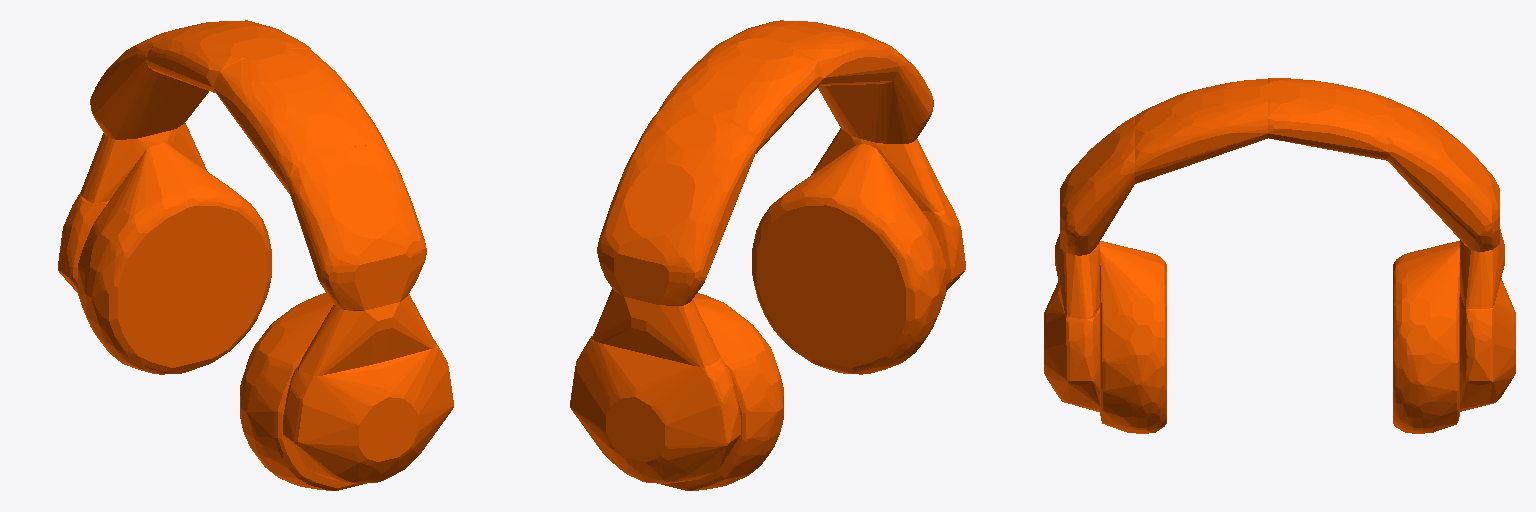
URDF robot description (Headphones):
<?xml version="1.0" ?>
<robot name="Headphones">
   <material name="obj_color">
      <color rgba="1.0 0.423529411765 0.0392156862745 1.0"/>
   </material>
   <link name="top">
      <inertial>
         <origin rpy="0.0003874533587058249 0.0008905078867870997 0.001185845480122348" xyz="0.0002455445780407492 0.0002485282753430494 -0.006979362858374948"/>
         <mass value="0.3754782728717205"/>
         <inertia ixx="0.001185797403053495" ixy="3.25237289232942e-08" ixz="-3.767734502913676e-06" iyy="0.0003874598740152774" iyz="-1.810414327521129e-06" izz="0.0008905494485464999"/>
      </inertial>
      <visual>
         <origin rpy="0 0 0" xyz="0 0 0"/>
         <geometry>
            <mesh filename="top_watertight_tiny.obj" scale="1 1 1"/>
         </geometry>
         <material name="obj_color"/>
      </visual>
      <collision>
         <origin rpy="0 0 0" xyz="0 0 0"/>
         <geometry>
            <mesh filename="top_watertight_tiny.obj" scale="1 1 1"/>
         </geometry>
      </collision>
   </link>
</robot>

--- Facts derived from the render (not from the file) ---
Views: 3 orthographic renders of the robot side by side, from view 1: azimuth 30°, elevation 25°; view 2: azimuth 150°, elevation 25°; view 3: azimuth 270°, elevation 25°.
Model Headphones with 1 links and 0 joints (none), rooted at top, posed every joint at zero.
Links seen in each view (by area): view 1: top; view 2: top; view 3: top.
Boxes of the visible links, bbox=[...] form: top: bbox=[58, 20, 453, 490]; top: bbox=[570, 20, 965, 490]; top: bbox=[1044, 78, 1515, 433].
Bounding box of the posed robot: 0.0544 × 0.1389 × 0.1087 m (x, y, z).
1 mesh visuals loaded from 1 distinct referenced files (1 OBJ).